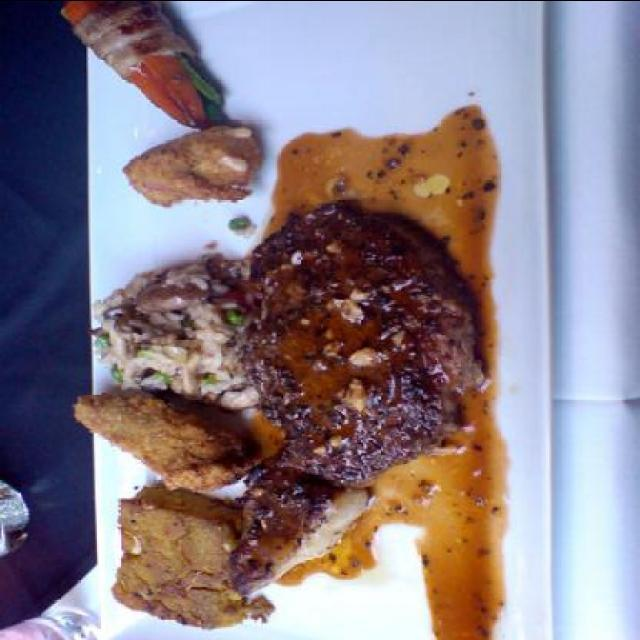Steak: (183, 154, 503, 608)
